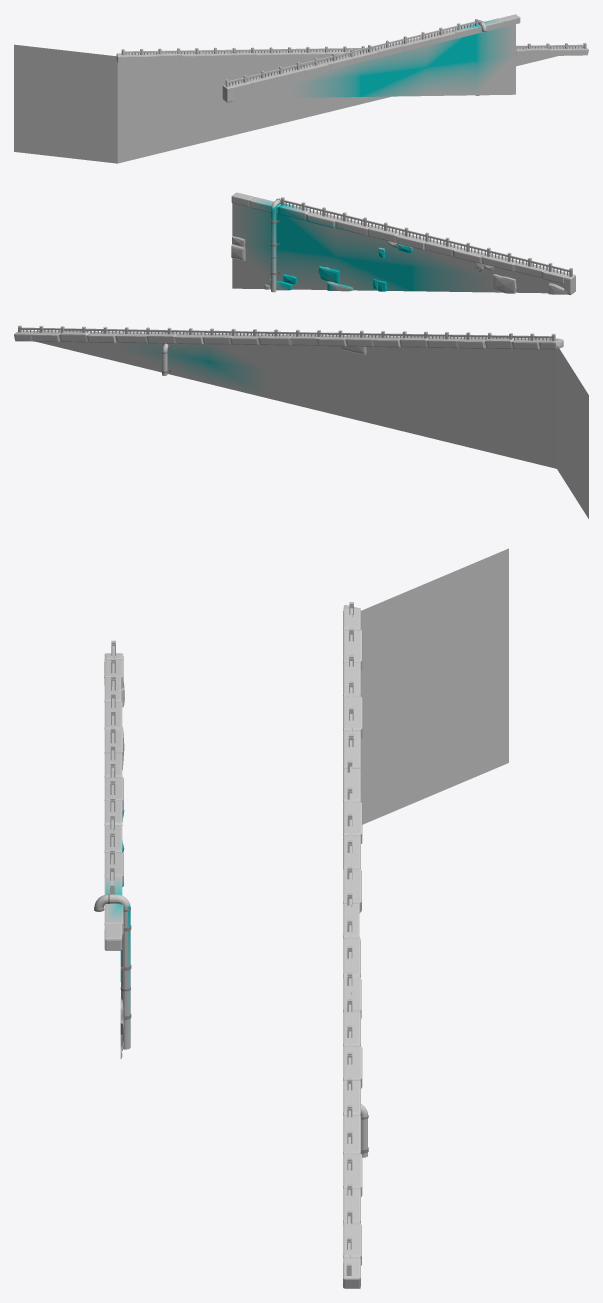
File: SM_ENV_KNVLLG_AreaH_Wall_B.mo.fbx
3 views of the same model, one above another, from view 1: azimuth 30°, elevation 25°; view 2: azimuth 150°, elevation 25°; view 3: azimuth 270°, elevation 25° (orthographic). The views are drawn at different scales.
Parts seen in each view (by area): view 1: SM_ENV_KNVLLG_AreaH_Wall_B.mo; view 2: SM_ENV_KNVLLG_AreaH_Wall_B.mo; view 3: SM_ENV_KNVLLG_AreaH_Wall_B.mo.
Part boxes in pixels (<box>): SM_ENV_KNVLLG_AreaH_Wall_B.mo: <box>14,14,588,163</box>; SM_ENV_KNVLLG_AreaH_Wall_B.mo: <box>14,192,588,518</box>; SM_ENV_KNVLLG_AreaH_Wall_B.mo: <box>94,548,508,1288</box>.
Bounding box in the file's own units: 52.05 × 11.14 × 17.54.
